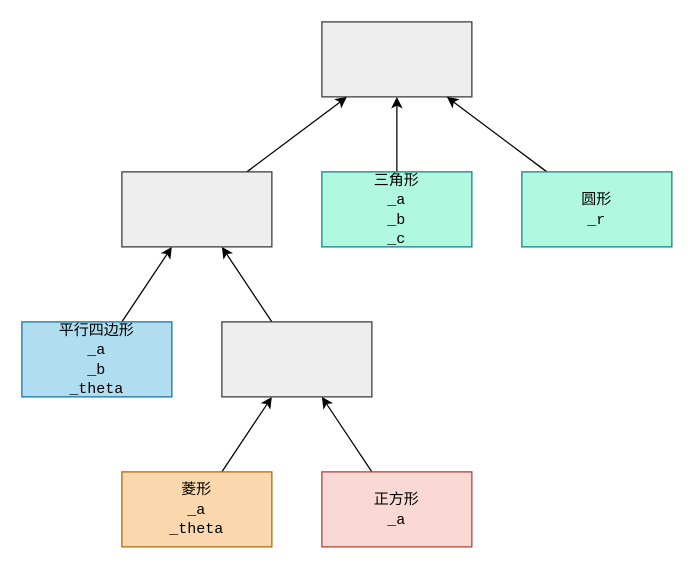
This 694x569 diagram has some shape labels left out. Each missing label, with the centre of its shape:
抽象图形基类: the point at 396,59
抽象平行四边形基类 _a: the point at 196,209
抽象菱形基类 _a: the point at 296,359
